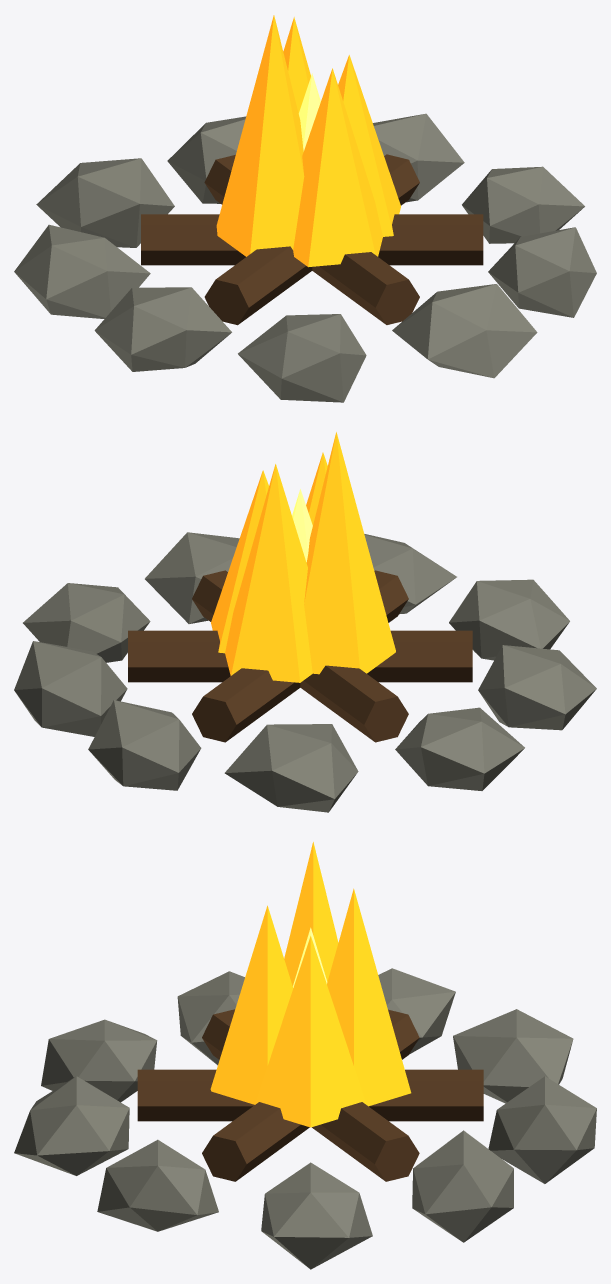
The model's file is campfire.glb.
3 renders of one model, top to bottom at view 1: azimuth 30°, elevation 25°; view 2: azimuth 150°, elevation 25°; view 3: azimuth 270°, elevation 25°, orthographic.
Parts seen in each view (by area): view 1: stone, Flame_fire, wood_dark, Flame_fire_core; view 2: stone, Flame_fire, wood_dark, Flame_fire_core; view 3: stone, Flame_fire, wood_dark.
Part boxes in pixels (x1,y1,x2,y2): stone: (14,113,596,402); Flame_fire: (216,15,400,267); wood_dark: (141,154,483,325); Flame_fire_core: (298,73,320,151); stone: (14,532,596,812); Flame_fire: (211,432,395,682); wood_dark: (128,570,472,742); Flame_fire_core: (292,489,312,562); stone: (14,968,596,1269); Flame_fire: (210,842,411,1127); wood_dark: (137,1009,483,1181).
Bounding box in the file's own units: 1.35 × 0.7472 × 1.35.
